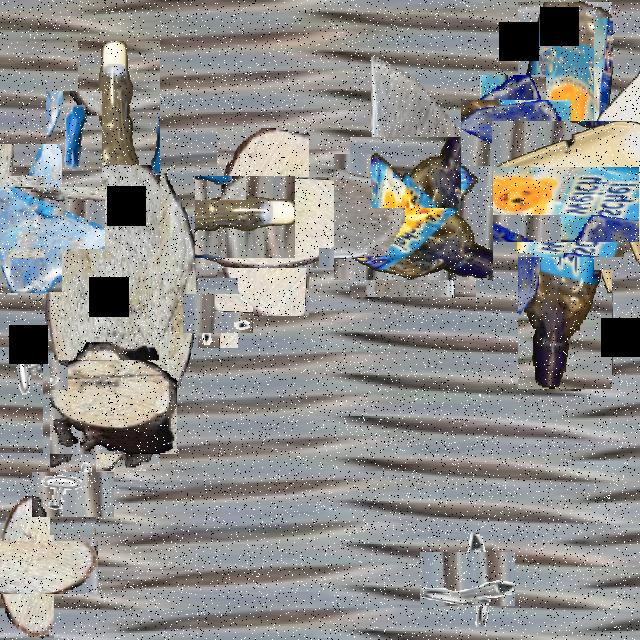glass: (371, 48, 461, 208), (0, 165, 83, 271), (467, 88, 559, 179), (0, 155, 8, 286)
metal: (529, 186, 613, 269), (430, 542, 504, 617), (46, 91, 102, 190), (0, 347, 43, 453), (41, 462, 105, 526), (190, 285, 246, 341), (434, 186, 490, 241)
plastic: (11, 108, 228, 326), (444, 75, 640, 315), (342, 146, 484, 288), (542, 69, 640, 218)
wood: (45, 166, 195, 436), (193, 152, 333, 292), (58, 352, 168, 462), (0, 518, 76, 616)
